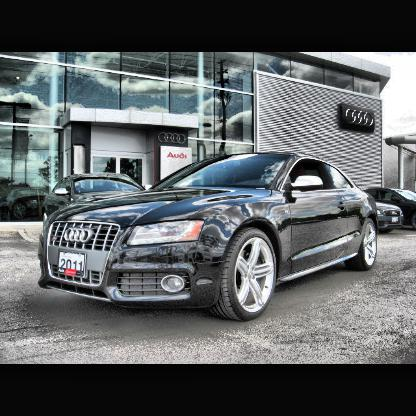Audi S5 Coupe 2012: (34, 148, 383, 326)
